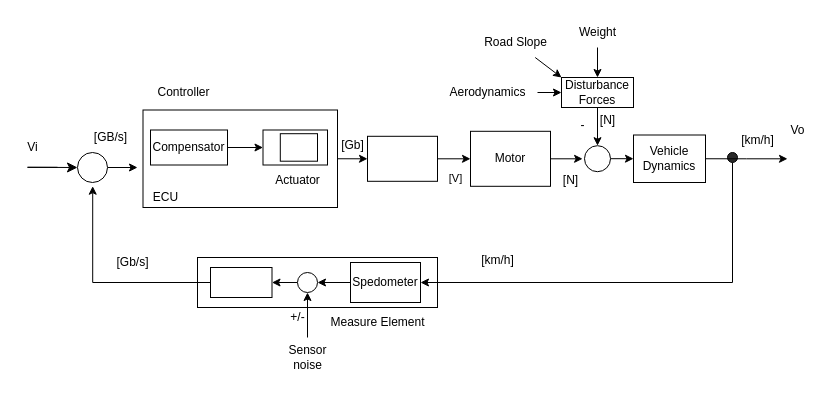
Some shapes in this 834 by 394 pixel diagram are drawn without their labels. Here are the shapes that lost their labels. From the top down, the centre of each, then its label:
At [298,147]: "ETC".
At [402,158]: "Inverter".
At [241,282]: "Conversor".
